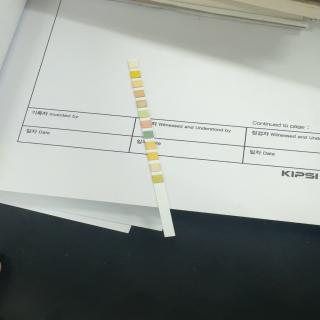mark: (146, 142, 156, 150), (152, 175, 162, 183), (148, 152, 157, 160), (151, 164, 160, 172), (130, 71, 140, 78), (132, 80, 142, 87), (139, 110, 149, 117), (144, 131, 154, 138), (129, 61, 138, 68), (135, 90, 144, 97), (141, 121, 151, 127), (137, 101, 146, 107)
